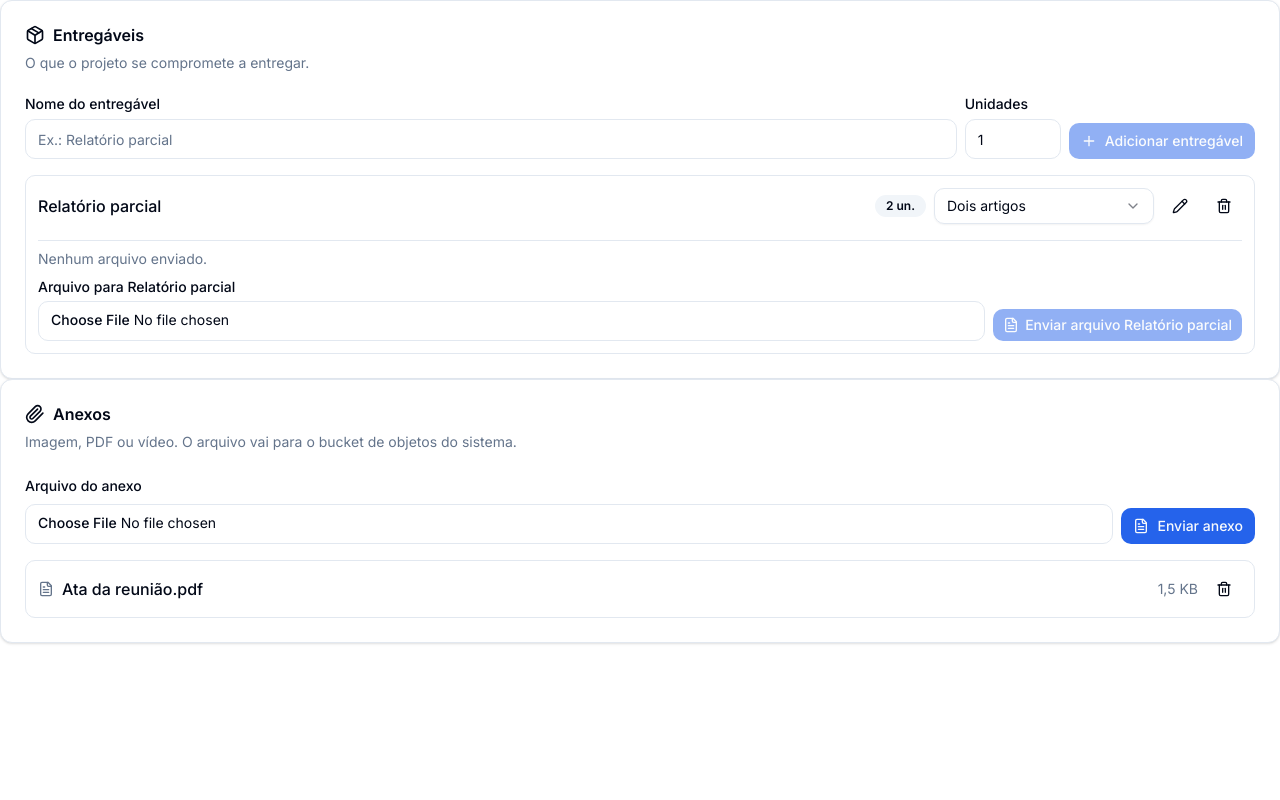
Scenario: vínculo entregável ↔ meta (S04, DEC-259) › gestão vê o Select Meta com as metas do projeto, pré-selecionado na meta da linha
The width and height of the screenshot is (1280, 800).
Expected: the text "Relatório parcial" is shown, [38,196,161,216]
Click the dropdown named "Meta para Relatório parcial": (1044, 206) [934,188,1154,224]
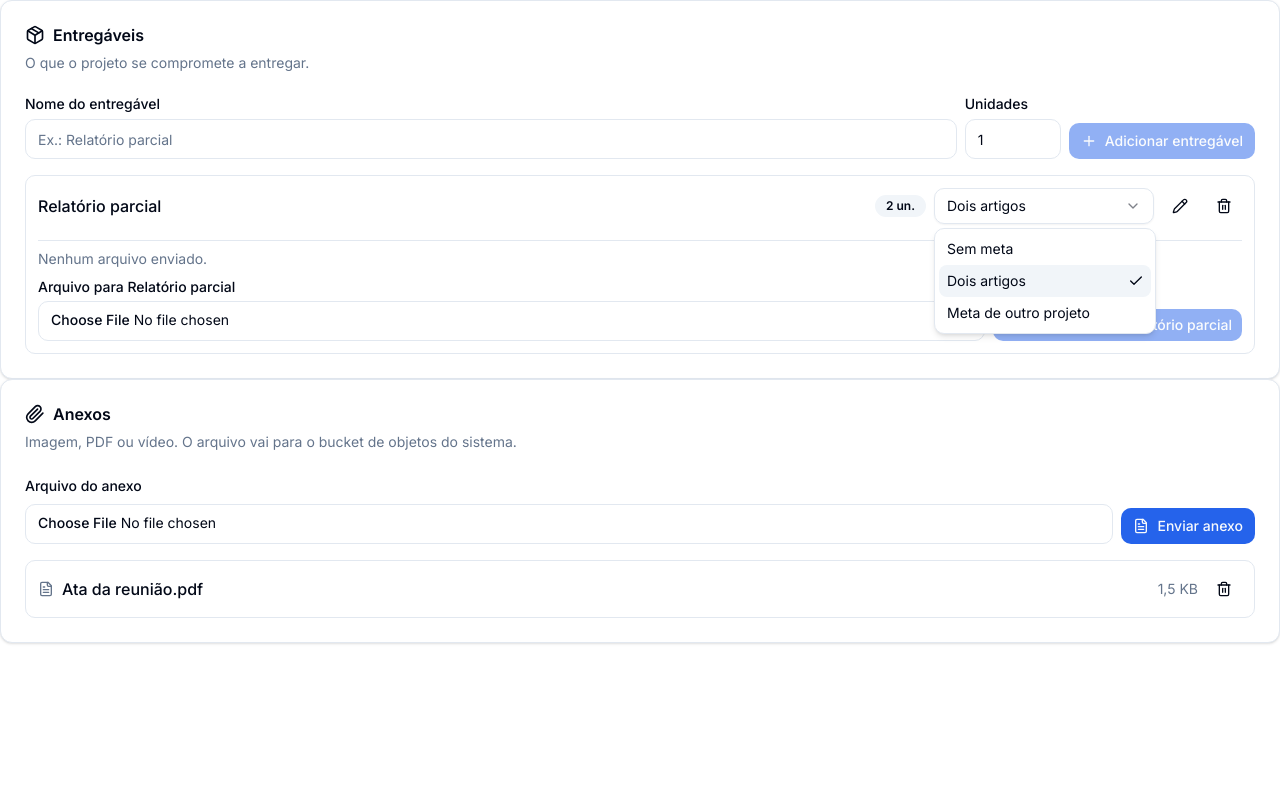
Expected: the options read "Sem meta", "Dois artigos", "Meta de outro projeto", in this order, [947,240,1013,257]; [939,265,1151,297]; [947,304,1090,321]
